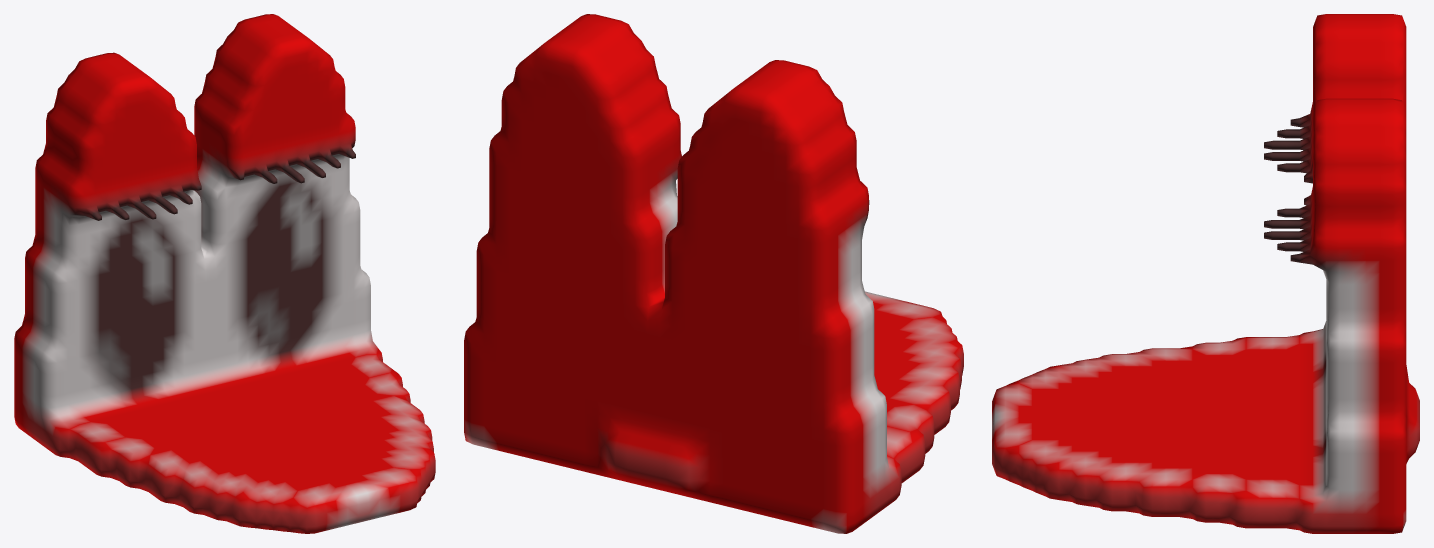
The picture shows the model from 3 angles, left to right: view 1: azimuth 30°, elevation 25°; view 2: azimuth 150°, elevation 25°; view 3: azimuth 270°, elevation 25°; orthographic projection. The views are drawn at different scales.
Bounding box in the file's own units: 1.55 × 1.6 × 1.6.
